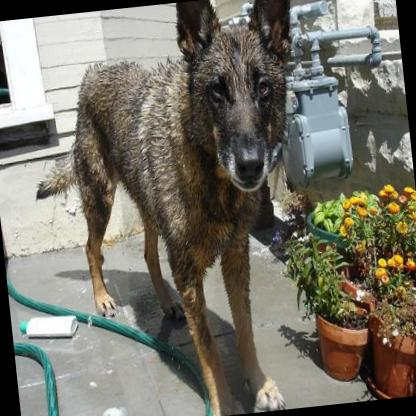malinois: (17, 0, 333, 416)
